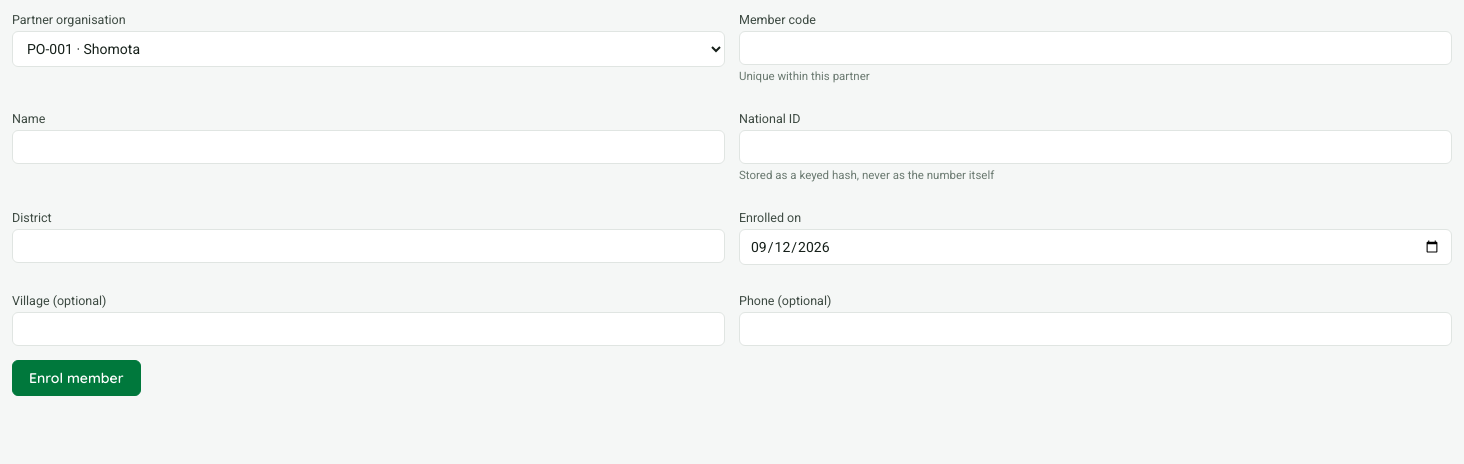
Test case: EnrolMemberForm › shows the server's per-field messages against the right fields
Select "PO-001 · Shomota" in the dropdown labelled "Partner organisation". click: (368, 49)
box: [12,31,725,67]
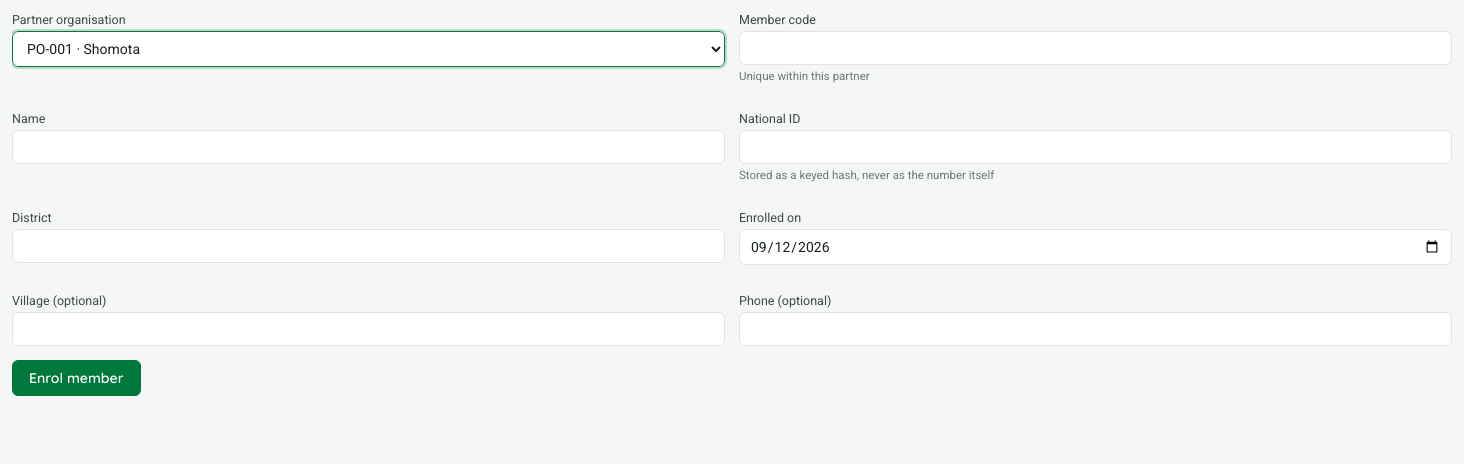
Type "M-0001" into the field labelled "Member code". click: (1096, 48)
box: [739,31,1452,65]
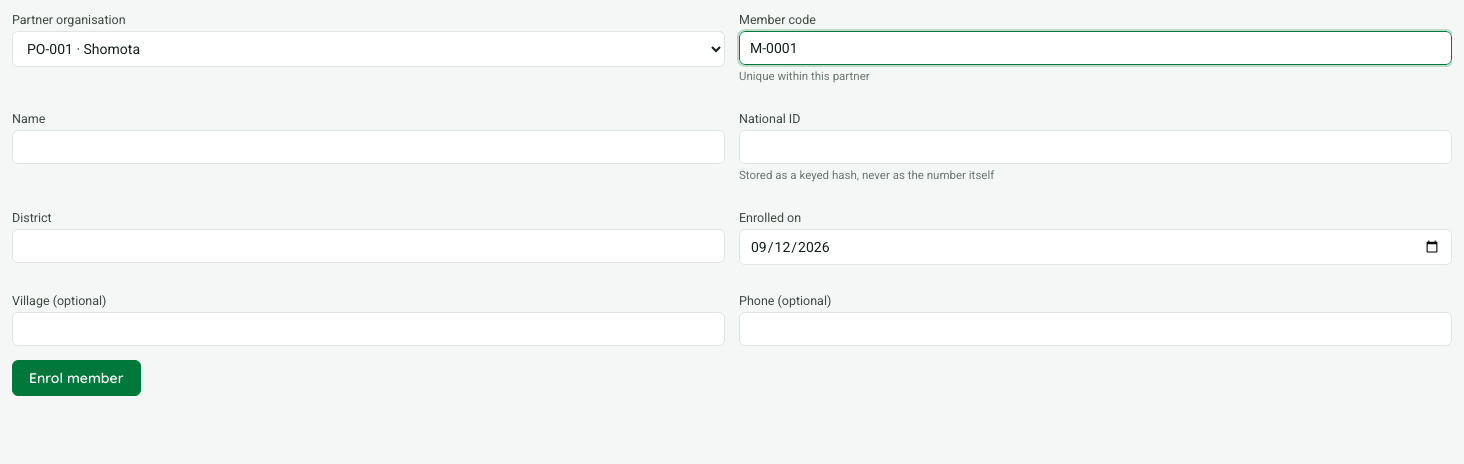
Type "Rahima Begum" into the field labelled "Name". click: (368, 147)
box: [12,130,725,164]
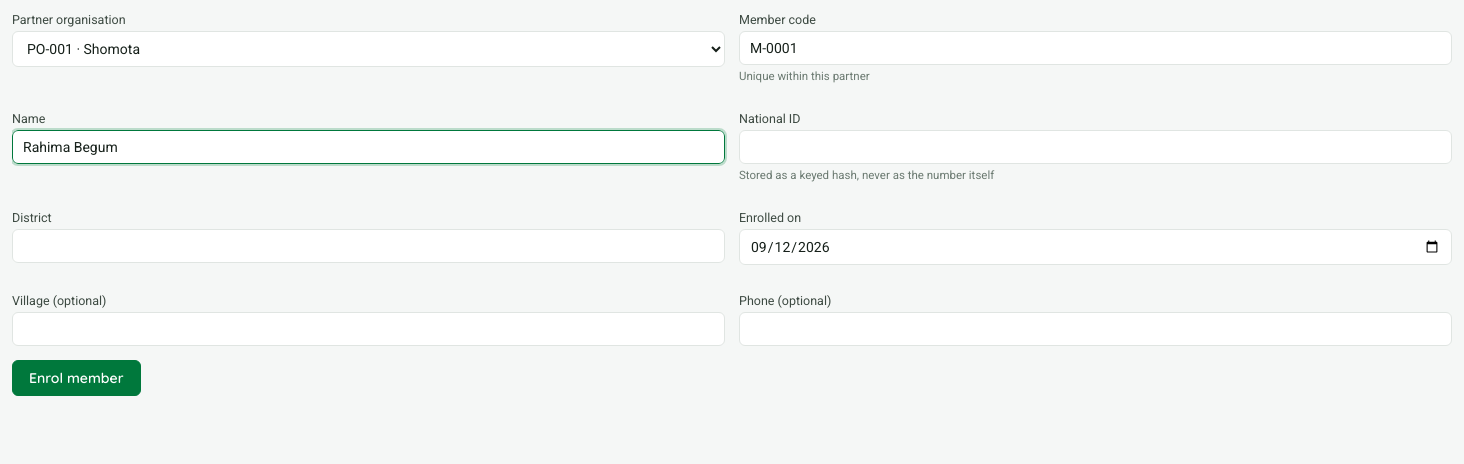
Type "1990123456789" into the field labelled "National ID". click: (1096, 147)
box: [739,130,1452,164]
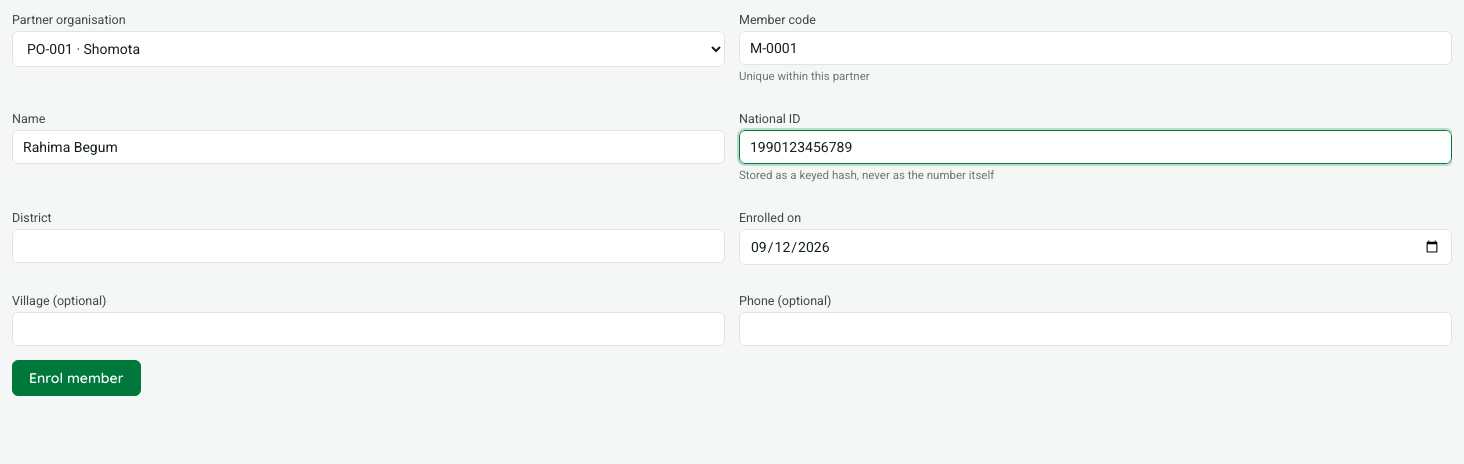
Type "Rangpur" into the field labelled "District". click: (368, 246)
box: [12,229,725,263]
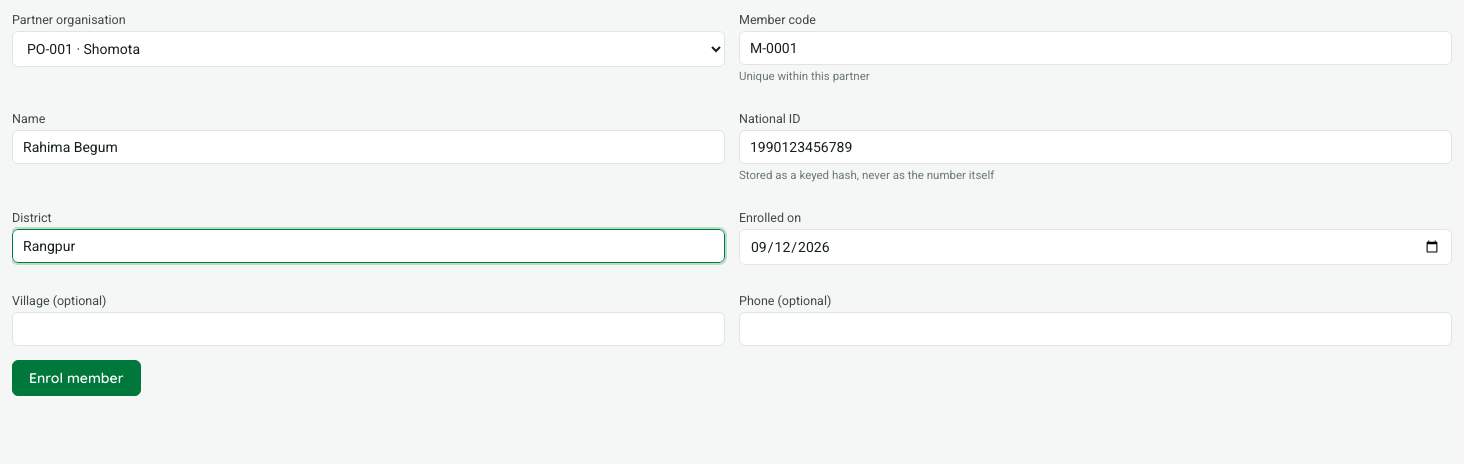
Click the button "Enrol member". click: click(76, 378)
box: [12,360,140,396]
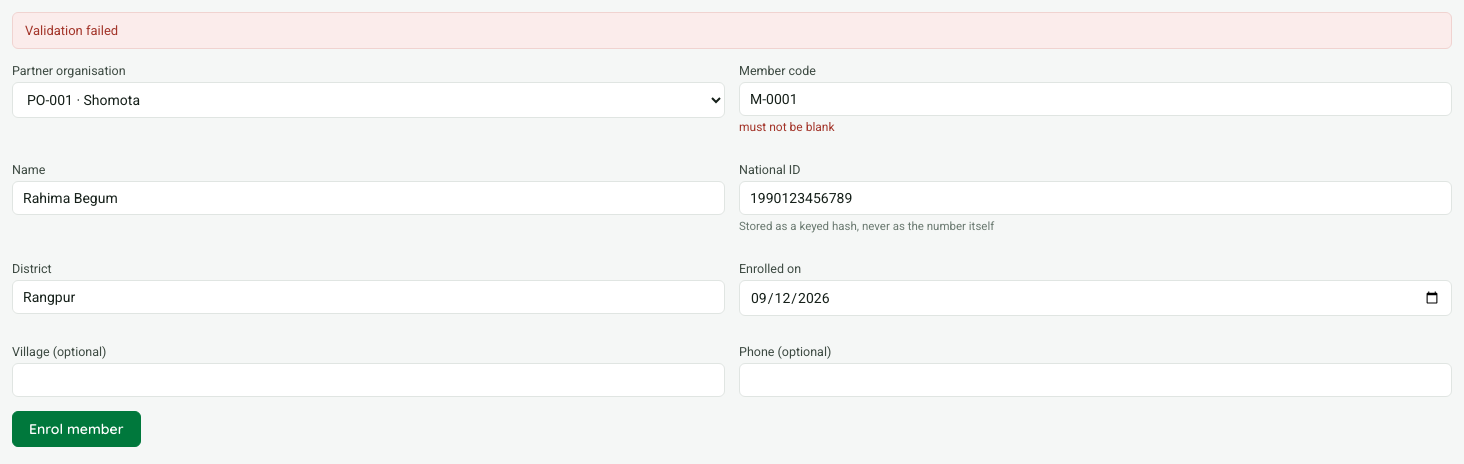
Check: the text "must not be blank" is shown, box [739,120,835,134]
